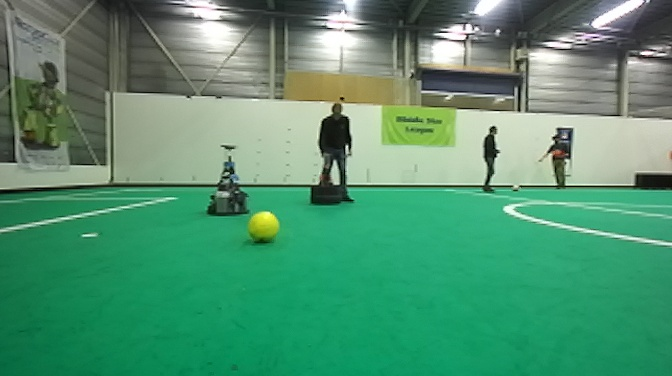ball: (246, 210, 280, 244), (510, 182, 521, 192), (550, 148, 560, 159)
human: (314, 99, 354, 204), (536, 135, 574, 189), (478, 125, 504, 193)
robot: (205, 143, 252, 217), (305, 154, 337, 205)
